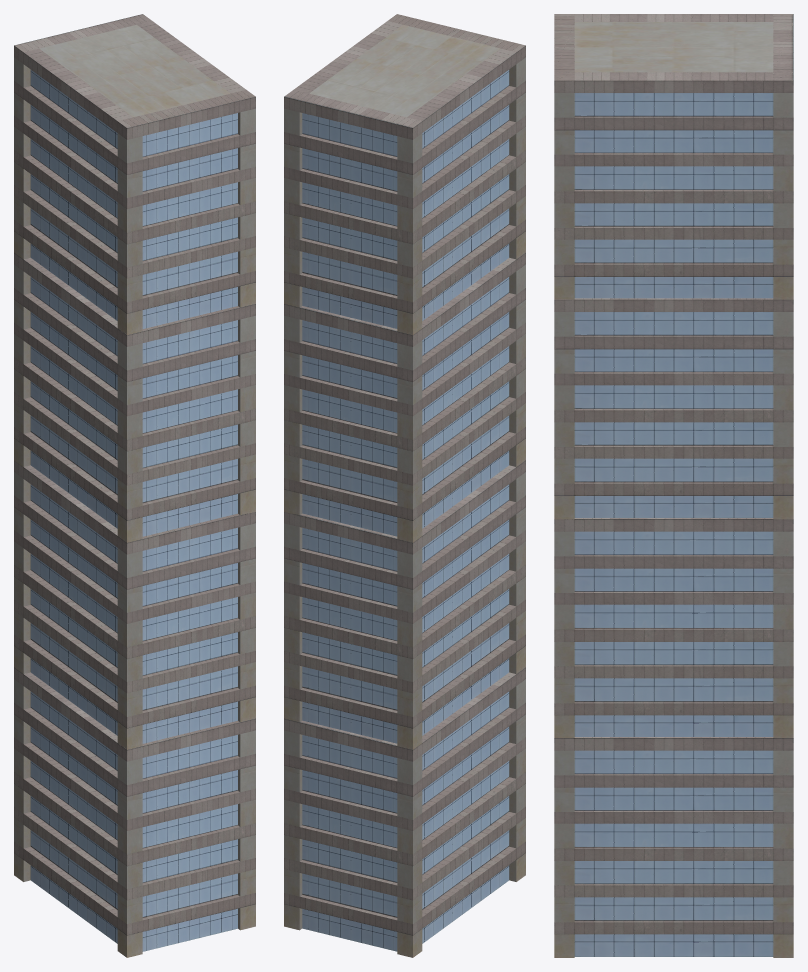
The model's file is house8.FBX.
3 views of the same model, side by side, from view 1: azimuth 30°, elevation 25°; view 2: azimuth 150°, elevation 25°; view 3: azimuth 270°, elevation 25° (orthographic). The views are drawn at different scales.
Parts seen in each view (by area): view 1: Box001; view 2: Box001; view 3: Box001.
Boxes of the visible parts, x1,y1,x2,y2 form: Box001: (14, 14, 255, 957); Box001: (284, 14, 525, 957); Box001: (554, 14, 793, 957).
Bounding box in the file's own units: 51.87 × 319 × 78.8.
